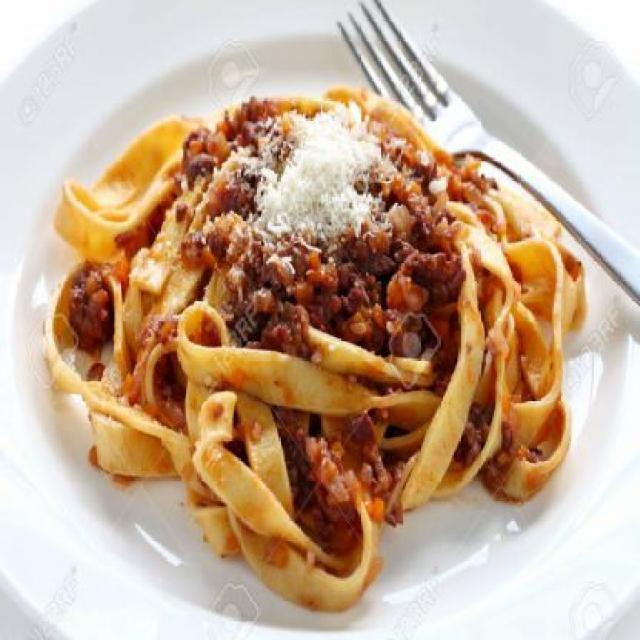Pasta al ragu: (74, 74, 606, 552)
